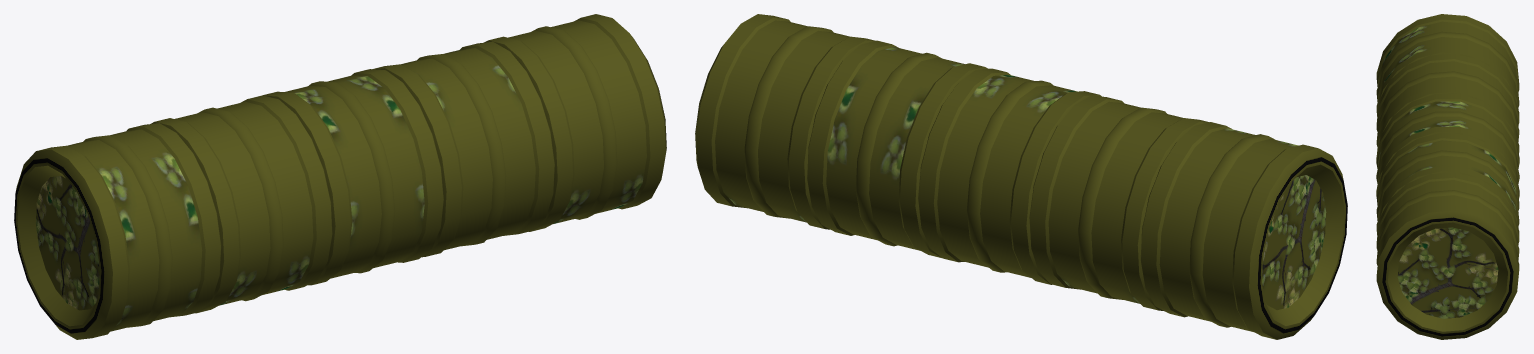
The model's file is pipe_a.FBX.
The picture shows the model from 3 angles, left to right: view 1: azimuth 30°, elevation 25°; view 2: azimuth 150°, elevation 25°; view 3: azimuth 270°, elevation 25°; orthographic projection. The views are drawn at different scales.
Visible parts, largest first — view 1: pipe_a; view 2: pipe_a; view 3: pipe_a.
Boxes of the visible parts, left/top/right/bottom form: pipe_a: left=14, top=14, right=666, bottom=339; pipe_a: left=695, top=14, right=1347, bottom=339; pipe_a: left=1376, top=14, right=1519, bottom=339.
Bounding box in the file's own units: 4.41 × 1.33 × 1.32.
